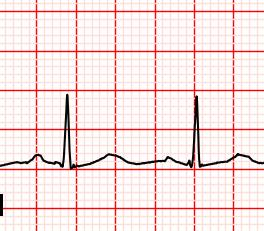LVH: (83, 149, 135, 170)
